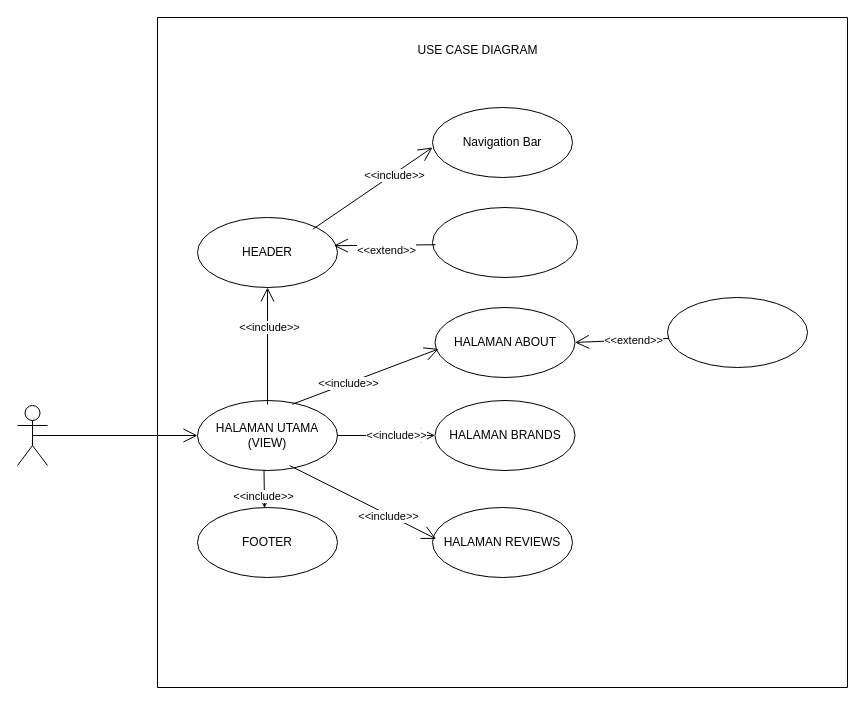
Some shapes in this 865 by 705 pixel diagram are drawn without their labels. The shapes that lost their labels are listed below. From the top down, each one's centre as x and y in pixels, then its label:
At point (505, 242): "Tombol Kontak".
At point (737, 332): "TOMBOL GET STARTED".
At point (32, 435): "Actor".
